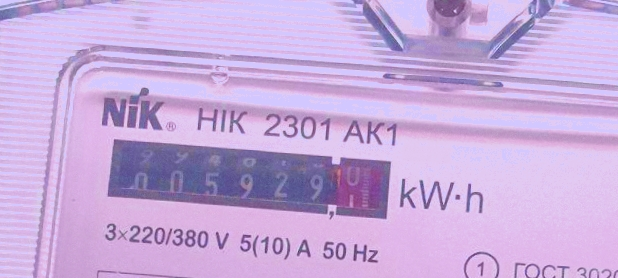0: (166, 166, 186, 195), (129, 166, 151, 190), (342, 163, 363, 187)
2: (269, 167, 290, 201)
5: (201, 168, 220, 197)
9: (305, 170, 326, 203), (234, 169, 256, 200), (135, 146, 154, 165)
screen: (100, 133, 399, 228)
